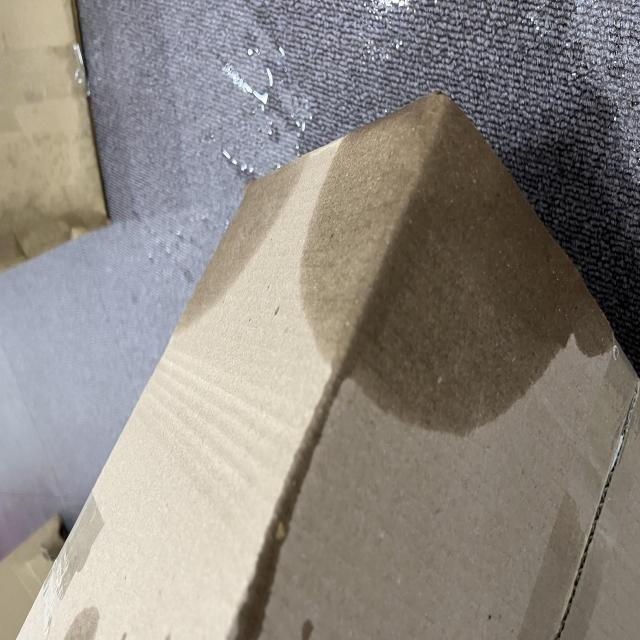wet: (154, 212, 399, 640)
